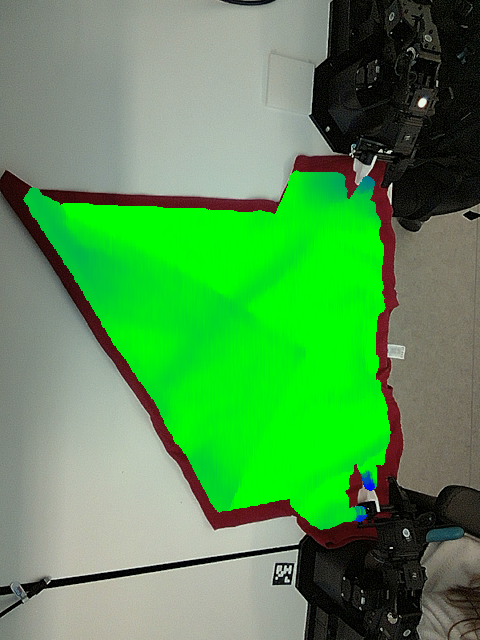V: (268, 317, 318, 383)
